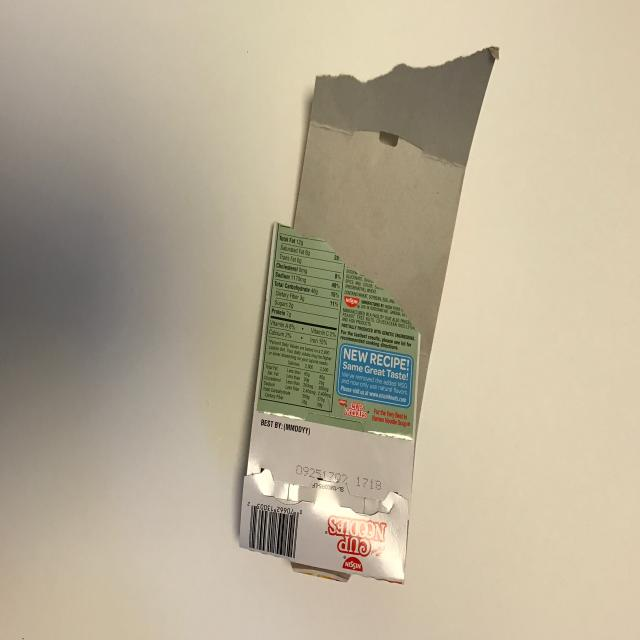paper: (234, 37, 500, 590)
